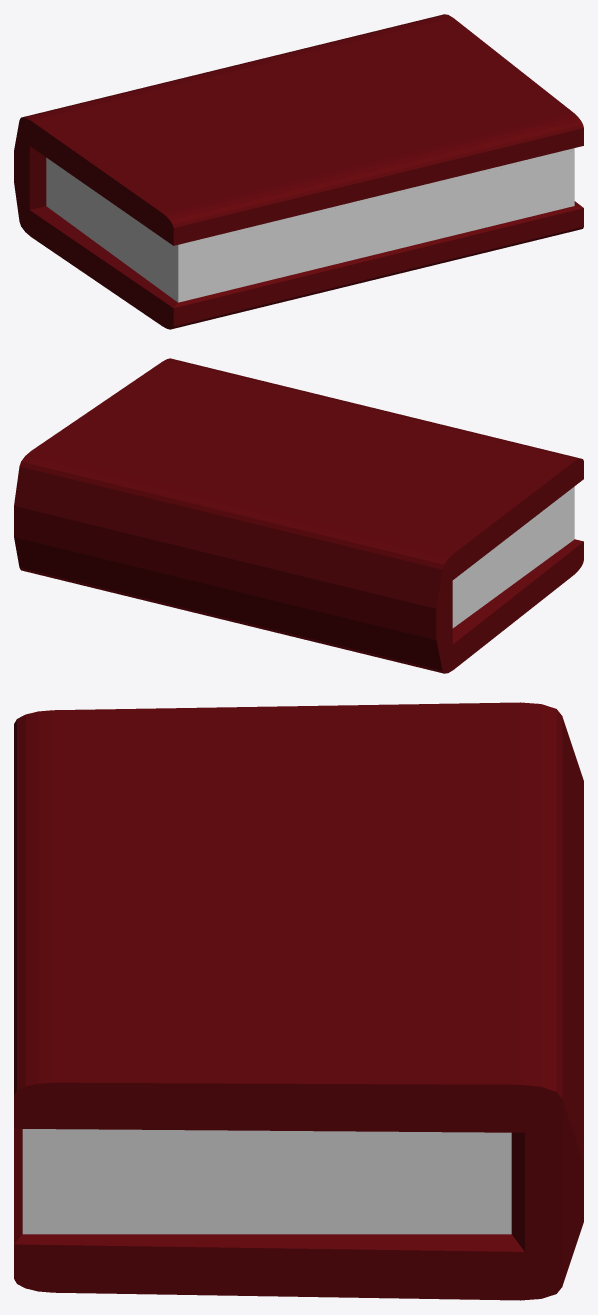
Rendered from book_red.fbx.
3 renders of one model, top to bottom at view 1: azimuth 30°, elevation 25°; view 2: azimuth 150°, elevation 25°; view 3: azimuth 270°, elevation 25°, orthographic. The views are drawn at different scales.
Parts seen in each view (by area): view 1: Book_red; view 2: Book_red; view 3: Book_red.
Boxes of the visible parts, bbox=[...] form: Book_red: bbox=[14, 14, 583, 329]; Book_red: bbox=[14, 358, 583, 673]; Book_red: bbox=[14, 702, 583, 1300].
Bounding box in the file's own units: 65.78 × 17.26 × 41.35.
